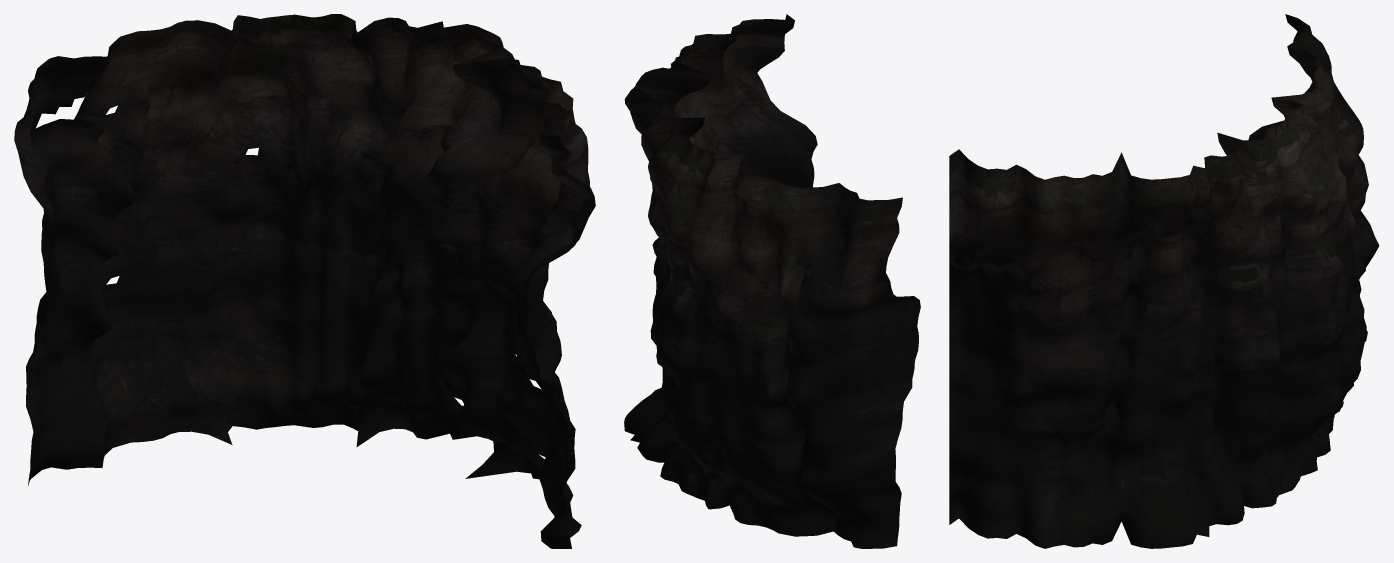
Rendered from cliff_wall_corner_outer_mid.glb.
3 views of the same model, side by side, from view 1: azimuth 30°, elevation 25°; view 2: azimuth 150°, elevation 25°; view 3: azimuth 270°, elevation 25° (orthographic). The views are drawn at different scales.
Visible parts, largest first — view 1: cliff_wall_corner_outer_mid; view 2: cliff_wall_corner_outer_mid; view 3: cliff_wall_corner_outer_mid.
Part boxes in pixels (x1,y1,x2,y2): cliff_wall_corner_outer_mid: (14,14,595,548); cliff_wall_corner_outer_mid: (624,14,920,548); cliff_wall_corner_outer_mid: (949,14,1379,548).
Bounding box in the file's own units: 4.24 × 4.2 × 4.5.
Materials: 2 (2 with a texture image).
